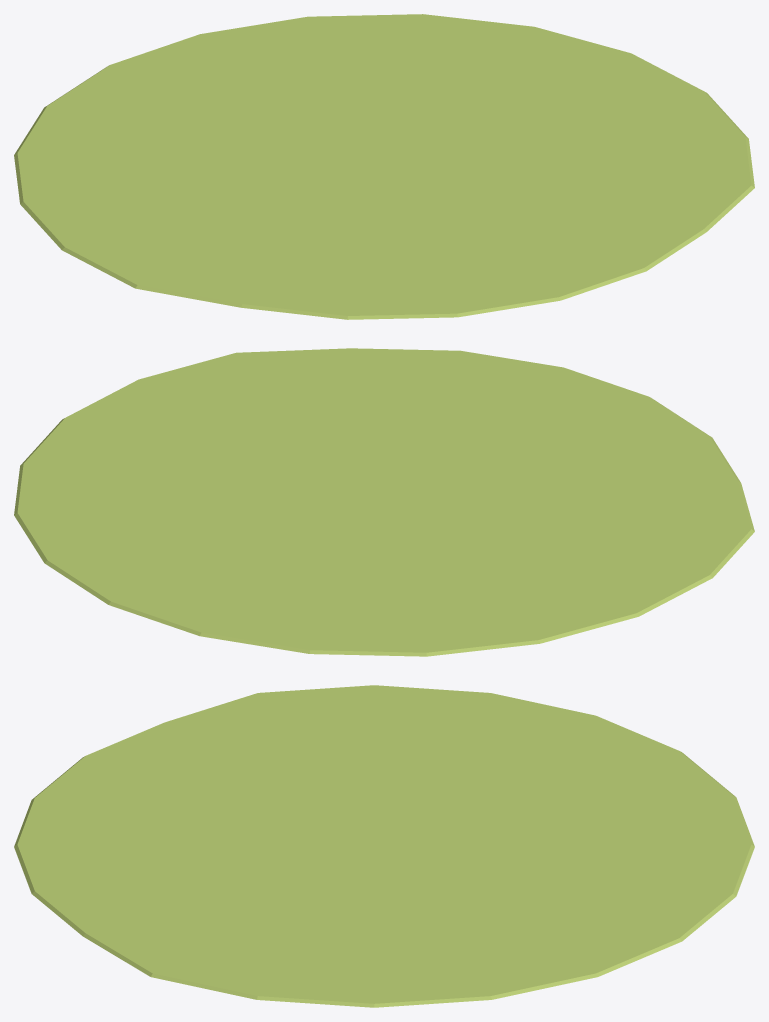
Rendered from Koto_terrain.fbx.
The picture shows the model from 3 angles, top to bottom: view 1: azimuth 30°, elevation 25°; view 2: azimuth 150°, elevation 25°; view 3: azimuth 270°, elevation 25°; orthographic projection. The views are drawn at different scales.
Parts seen in each view (by area): view 1: pCylinder1; view 2: pCylinder1; view 3: pCylinder1.
Part boxes in pixels (x1,y1,x2,y2): pCylinder1: (14, 14, 754, 319); pCylinder1: (14, 348, 754, 656); pCylinder1: (14, 685, 754, 1007).
Bounding box in the file's own units: 72.34 × 0.2534 × 70.41.
